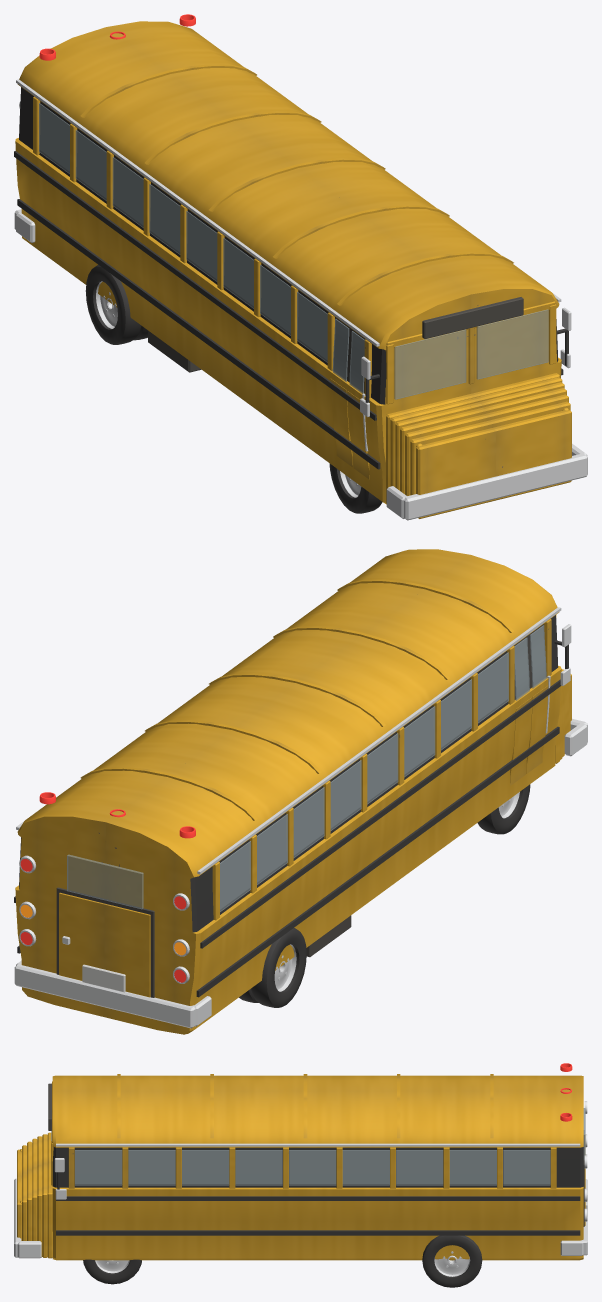
Rendered from hero-bus.glb.
3 renders of one model, top to bottom at view 1: azimuth 30°, elevation 25°; view 2: azimuth 150°, elevation 25°; view 3: azimuth 270°, elevation 25°, orthographic. The views are drawn at different scales.
Visible parts, largest first — view 1: HeroBus; view 2: HeroBus; view 3: HeroBus.
Boxes of the visible parts, <box> form: HeroBus: <box>14,14,587,520</box>; HeroBus: <box>14,549,587,1034</box>; HeroBus: <box>14,1063,587,1287</box>.
Bounding box in the file's own units: 2.98 × 3.2 × 9.97.
Materials: 8 (1 with a texture image).
